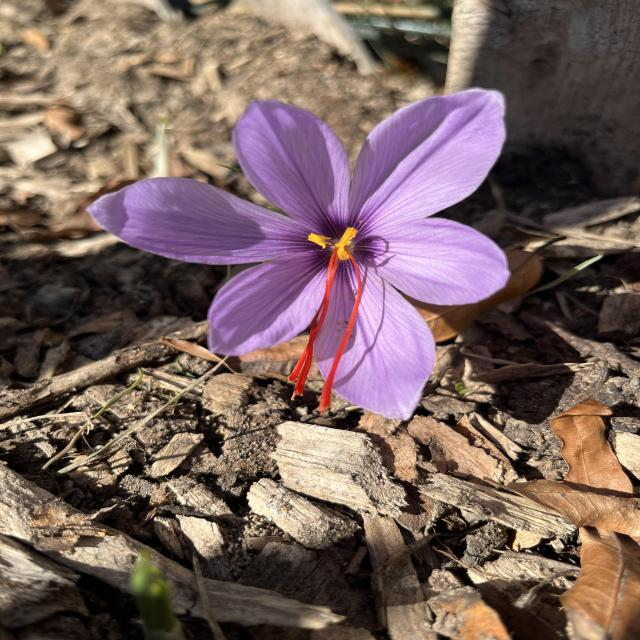Flower: (160, 100, 512, 400)
stigma: (319, 259, 376, 413), (297, 256, 337, 398)
